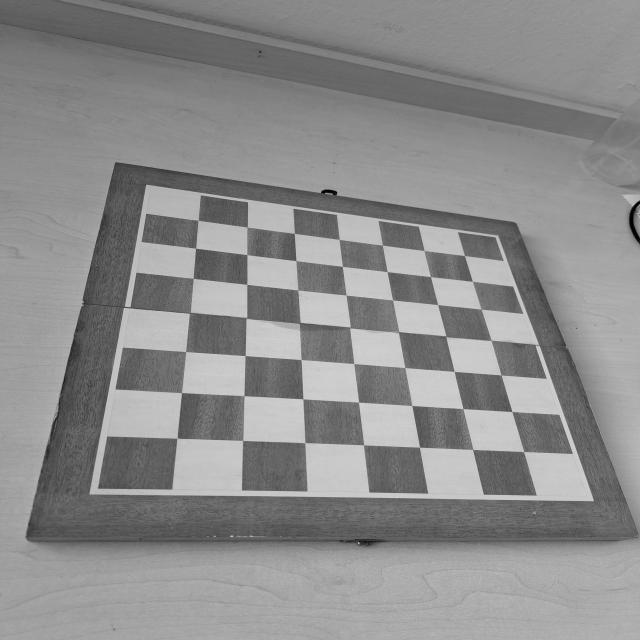chess-table-corners: (84, 478, 113, 498), (576, 488, 598, 505), (486, 232, 504, 244), (142, 183, 158, 193)
